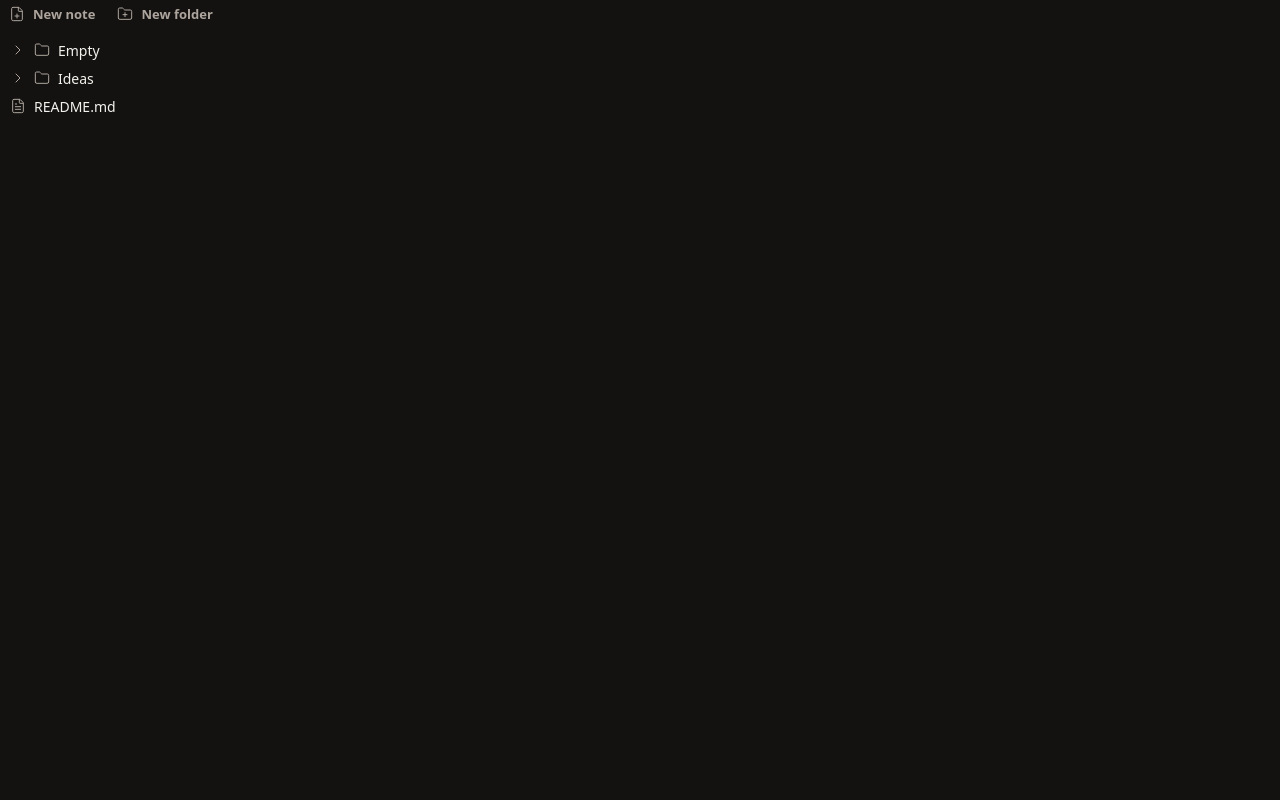
Test: a refused name keeps the dialog open with the reason
Click the button "New folder" at (165, 14), box [108, 0, 222, 28]
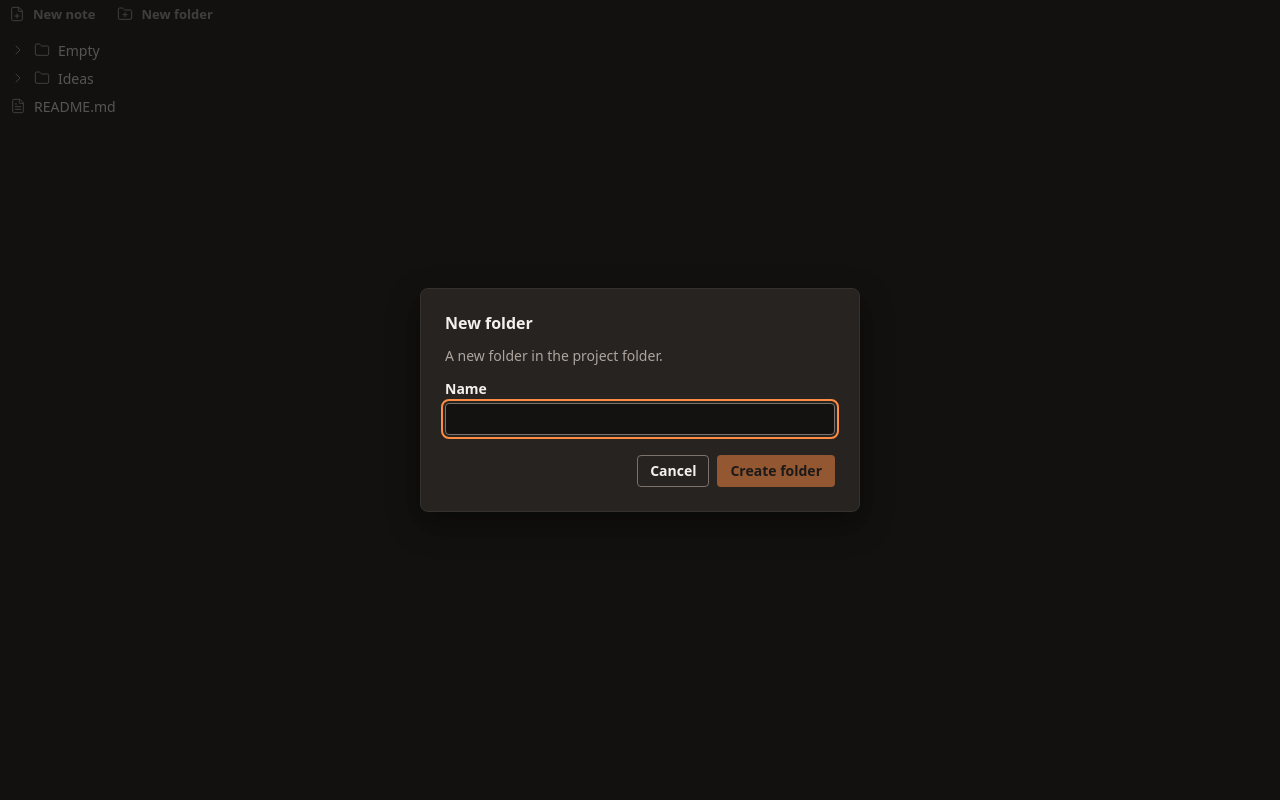
Type "node_modules" into the field labelled "Name" at (640, 419), box [445, 403, 835, 435]
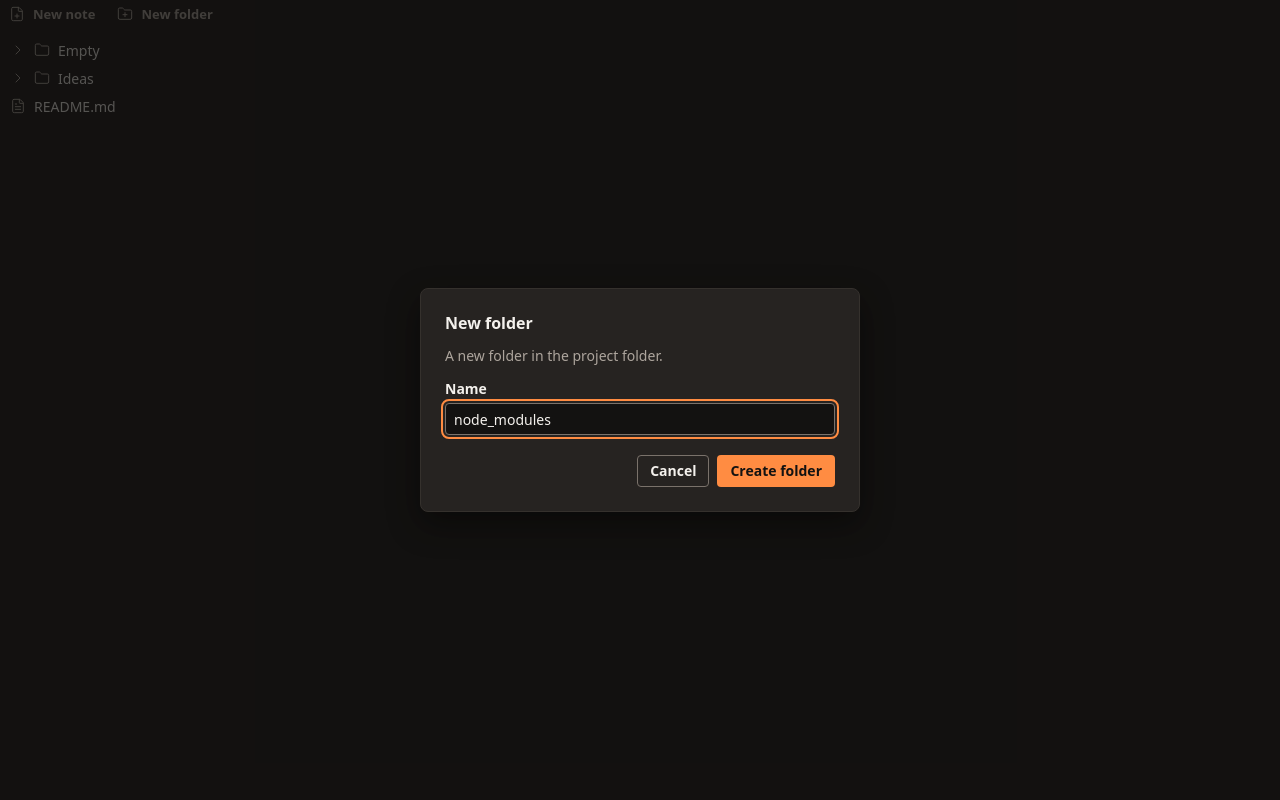
Click the button "Create folder" at (776, 471), box [717, 455, 835, 487]
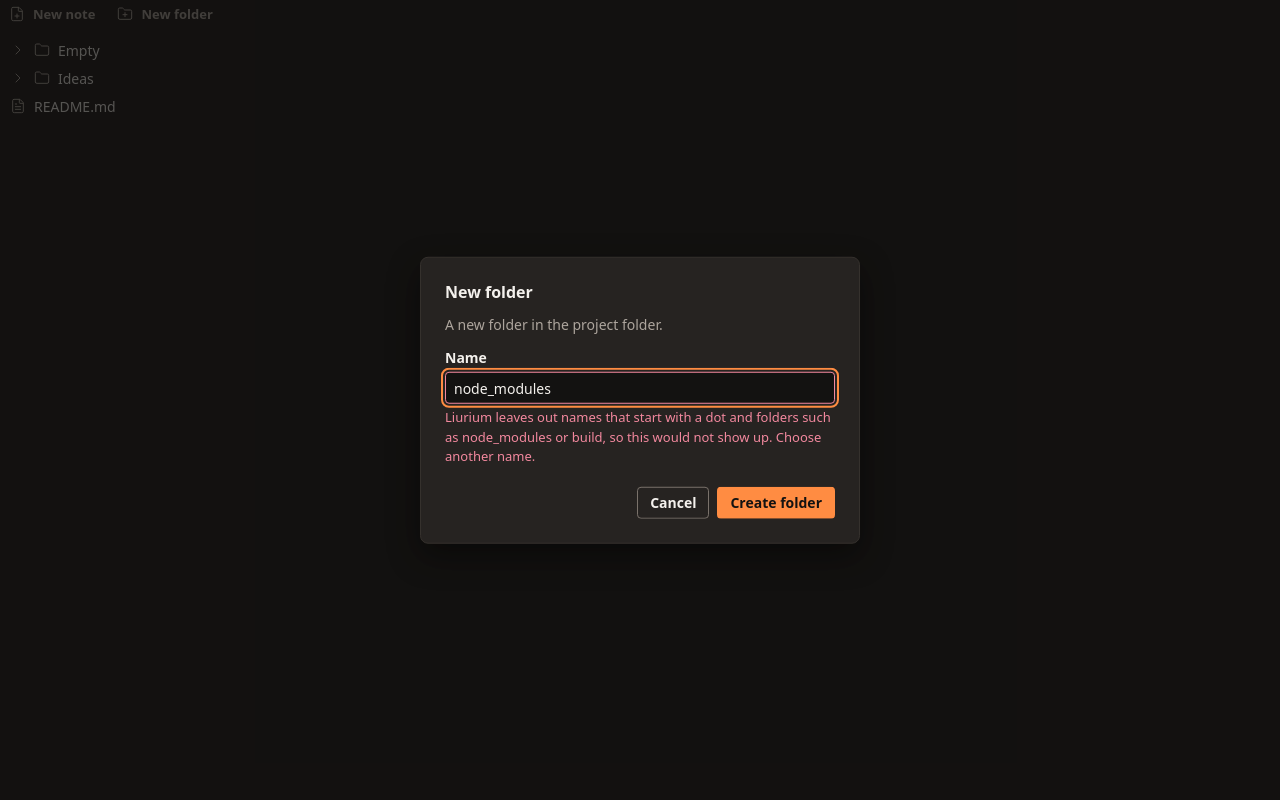
Now the dialog "New folder" is shown, box [420, 257, 860, 543]
Now the dialog "New folder" shows "Liurium leaves out names that start with a dot", box [445, 408, 831, 465]
